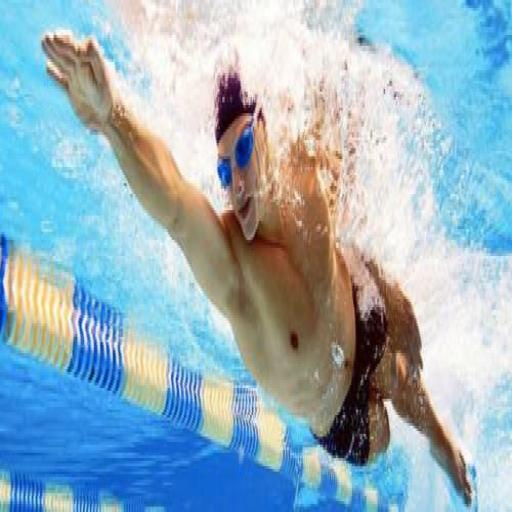swimming: (39, 16, 475, 507)
